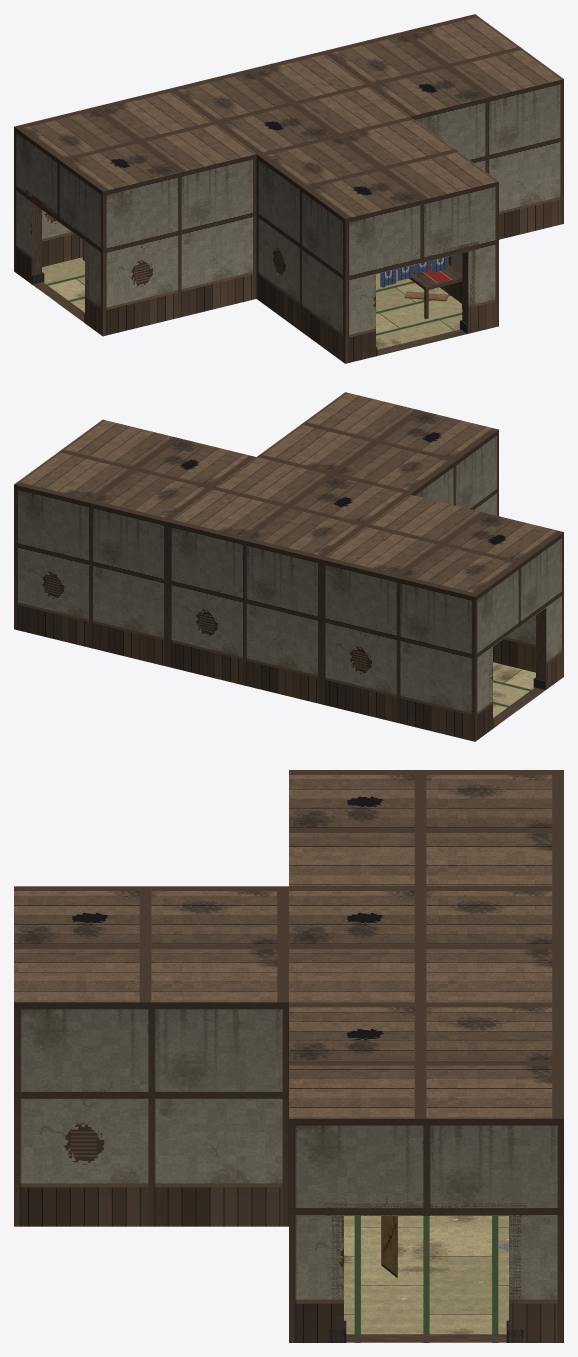
3 renders of one model, top to bottom at view 1: azimuth 30°, elevation 25°; view 2: azimuth 150°, elevation 25°; view 3: azimuth 270°, elevation 25°, orthographic. The views are drawn at different scales.
Visible parts, largest first — view 1: f_A, f_A_Deco; view 2: f_A, f_A_Deco; view 3: f_A, f_A_Deco.
Boxes of the visible parts, x1,y1,x2,y2 form: f_A: (14, 14, 563, 363); f_A_Deco: (27, 257, 476, 356); f_A: (14, 392, 563, 741); f_A_Deco: (493, 677, 546, 728); f_A: (14, 770, 563, 1342); f_A_Deco: (329, 1320, 523, 1342).
Size of the model in its own units: 1.33 by 2 by 0.6.
Materials: 4 (4 with a texture image).
